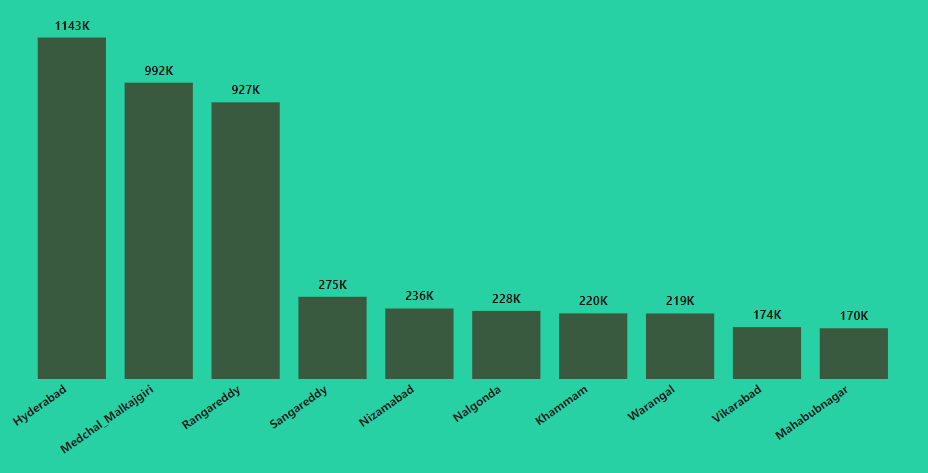

What the dashboard file says about the page in this screenshot:
{"tool":"powerbi","page":{"name":"Vehicle sales Tooltip","canvas":[320,240],"ordinal":4},"visuals":[{"type":"clusteredColumnChart","fields":{"Category":["dim_districts.district"],"Y":["fact_transports.Total_fule_type_sales"]},"box":[0,0,320,240],"z":0}]}

Visuals, with their boxes on the page's 320x240 design canvas (x1, y1, x2, y2). These are canvas units, not pixel positions in the 928x473 screenshot, which may show the page scaled, cropped or inside an application window:
clusteredColumnChart - dim_districts.district x fact_transports.Total_fule_type_sales: (0,0,320,240)
